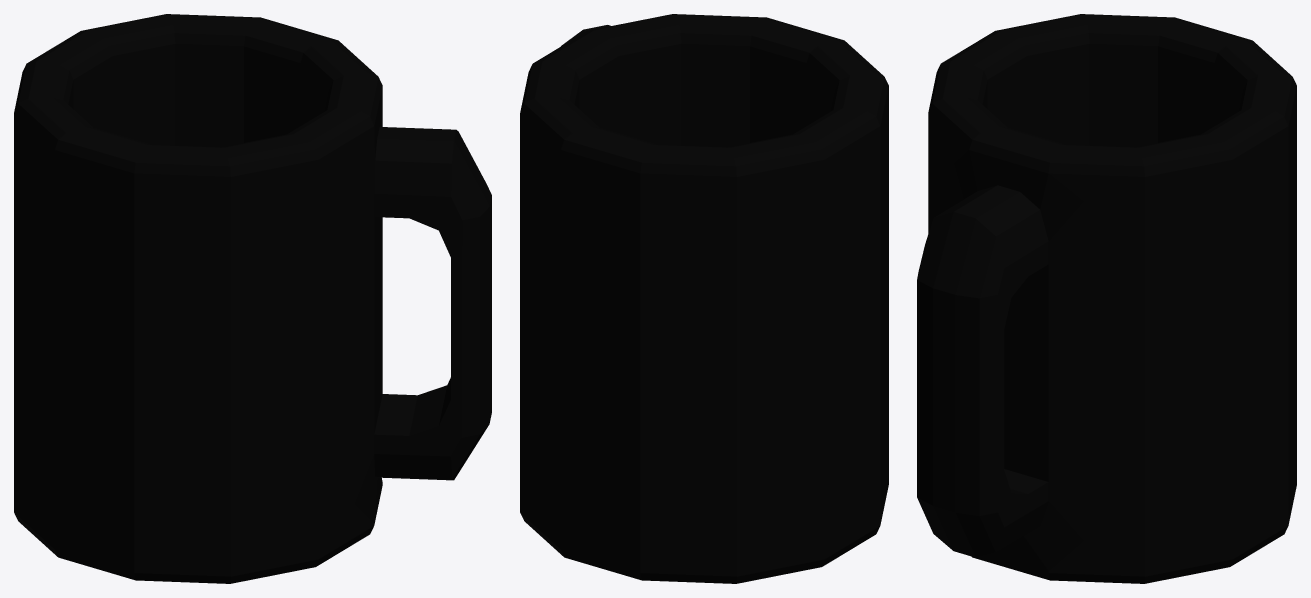
Rendered from Coffee_mug_A.fbx.
3 renders of one model, left to right at view 1: azimuth 30°, elevation 25°; view 2: azimuth 150°, elevation 25°; view 3: azimuth 270°, elevation 25°, orthographic.
Visible parts, largest first — view 1: Cylinder; view 2: Cylinder; view 3: Cylinder.
Part boxes in pixels (x1,y1,x2,y2): Cylinder: [14, 14, 491, 583]; Cylinder: [520, 14, 888, 583]; Cylinder: [917, 14, 1296, 583].
Size of the model in its own units: 14.13 by 15.04 by 12.18.
